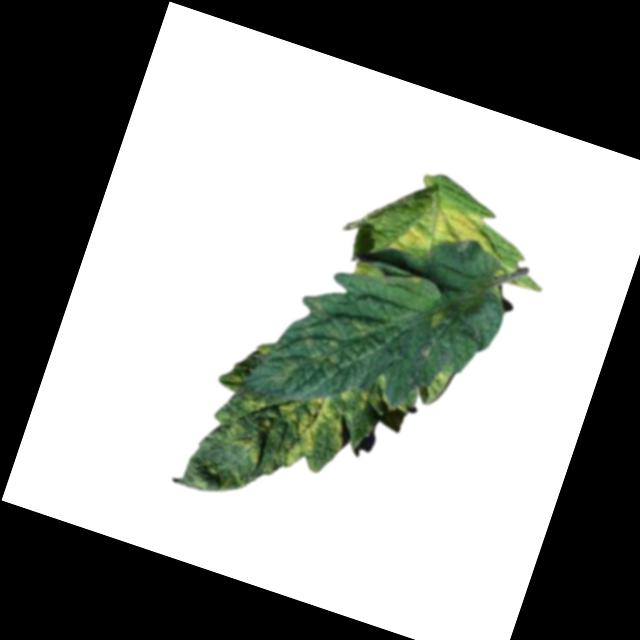Leaf_Mold: (269, 285, 407, 416), (387, 189, 508, 282), (279, 387, 356, 481)
